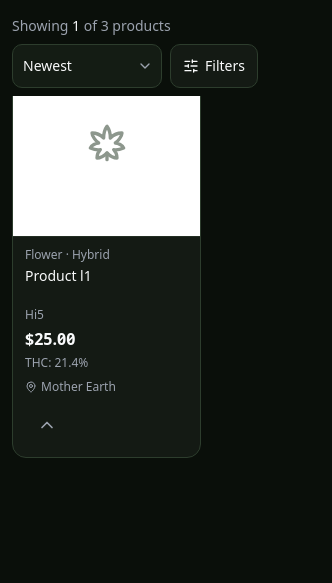
ProductGrid progressive loading › surfaces a retry and the honest total when the full-set fetch fails (never a silent truncation)
The image size is (332, 583).
Press the mouse on the button "Filters": (214, 66) left=170, top=44, right=258, bottom=88
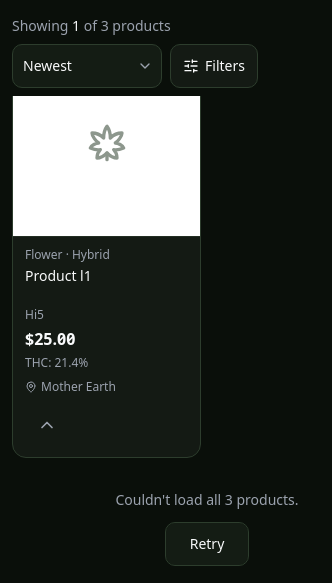
Check: the heading "Product l1" is shown, box left=25, top=266, right=92, bottom=285
Check: the button "Retry" is shown, box left=165, top=522, right=249, bottom=566
